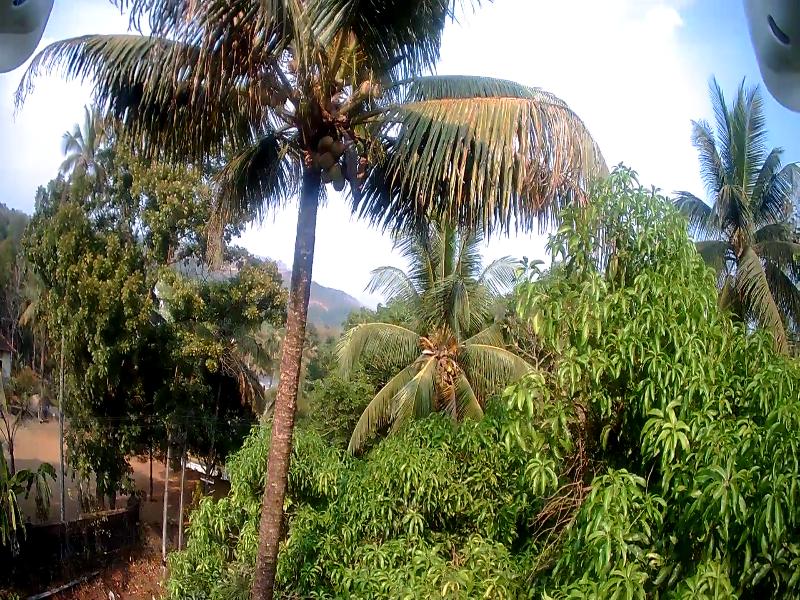coconut: (333, 167, 347, 190), (360, 78, 374, 98), (374, 77, 385, 99), (322, 154, 336, 170), (315, 166, 329, 182), (321, 135, 331, 151), (330, 146, 344, 157)
